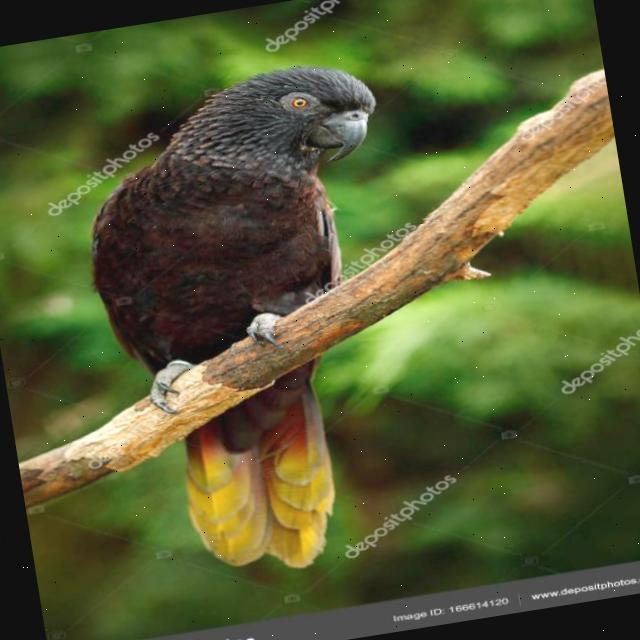Nuri Hitam: (49, 41, 452, 599)
